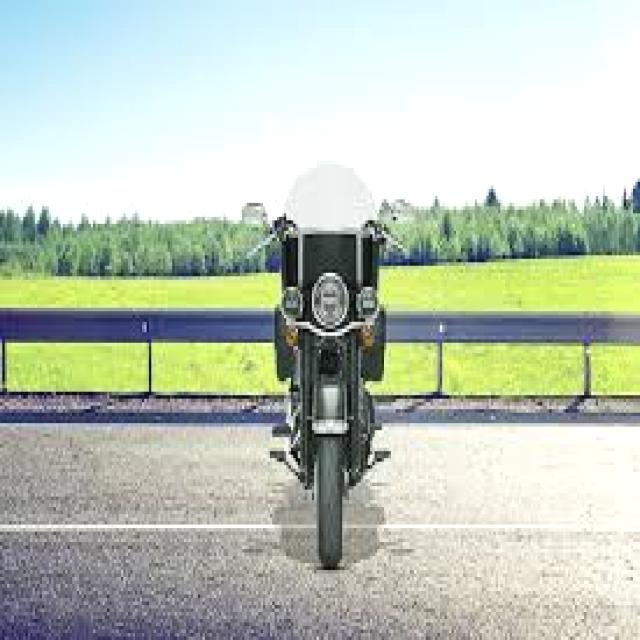MOTORCYCLE: (271, 174, 382, 579)
